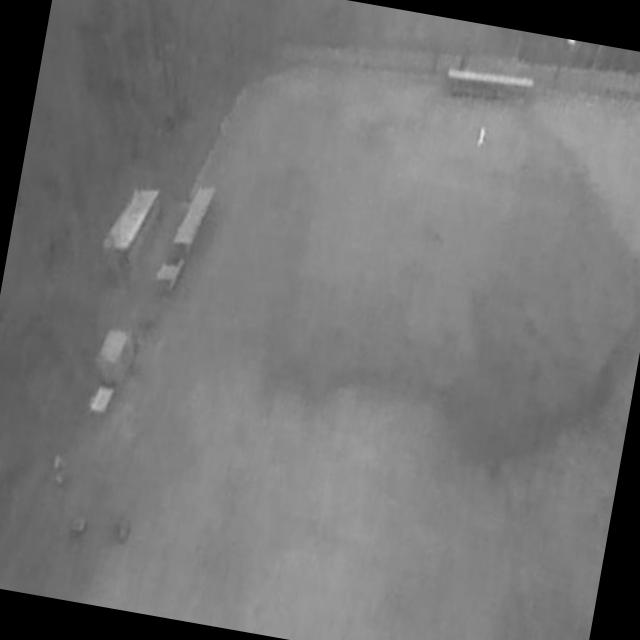person: (474, 126, 487, 152)
